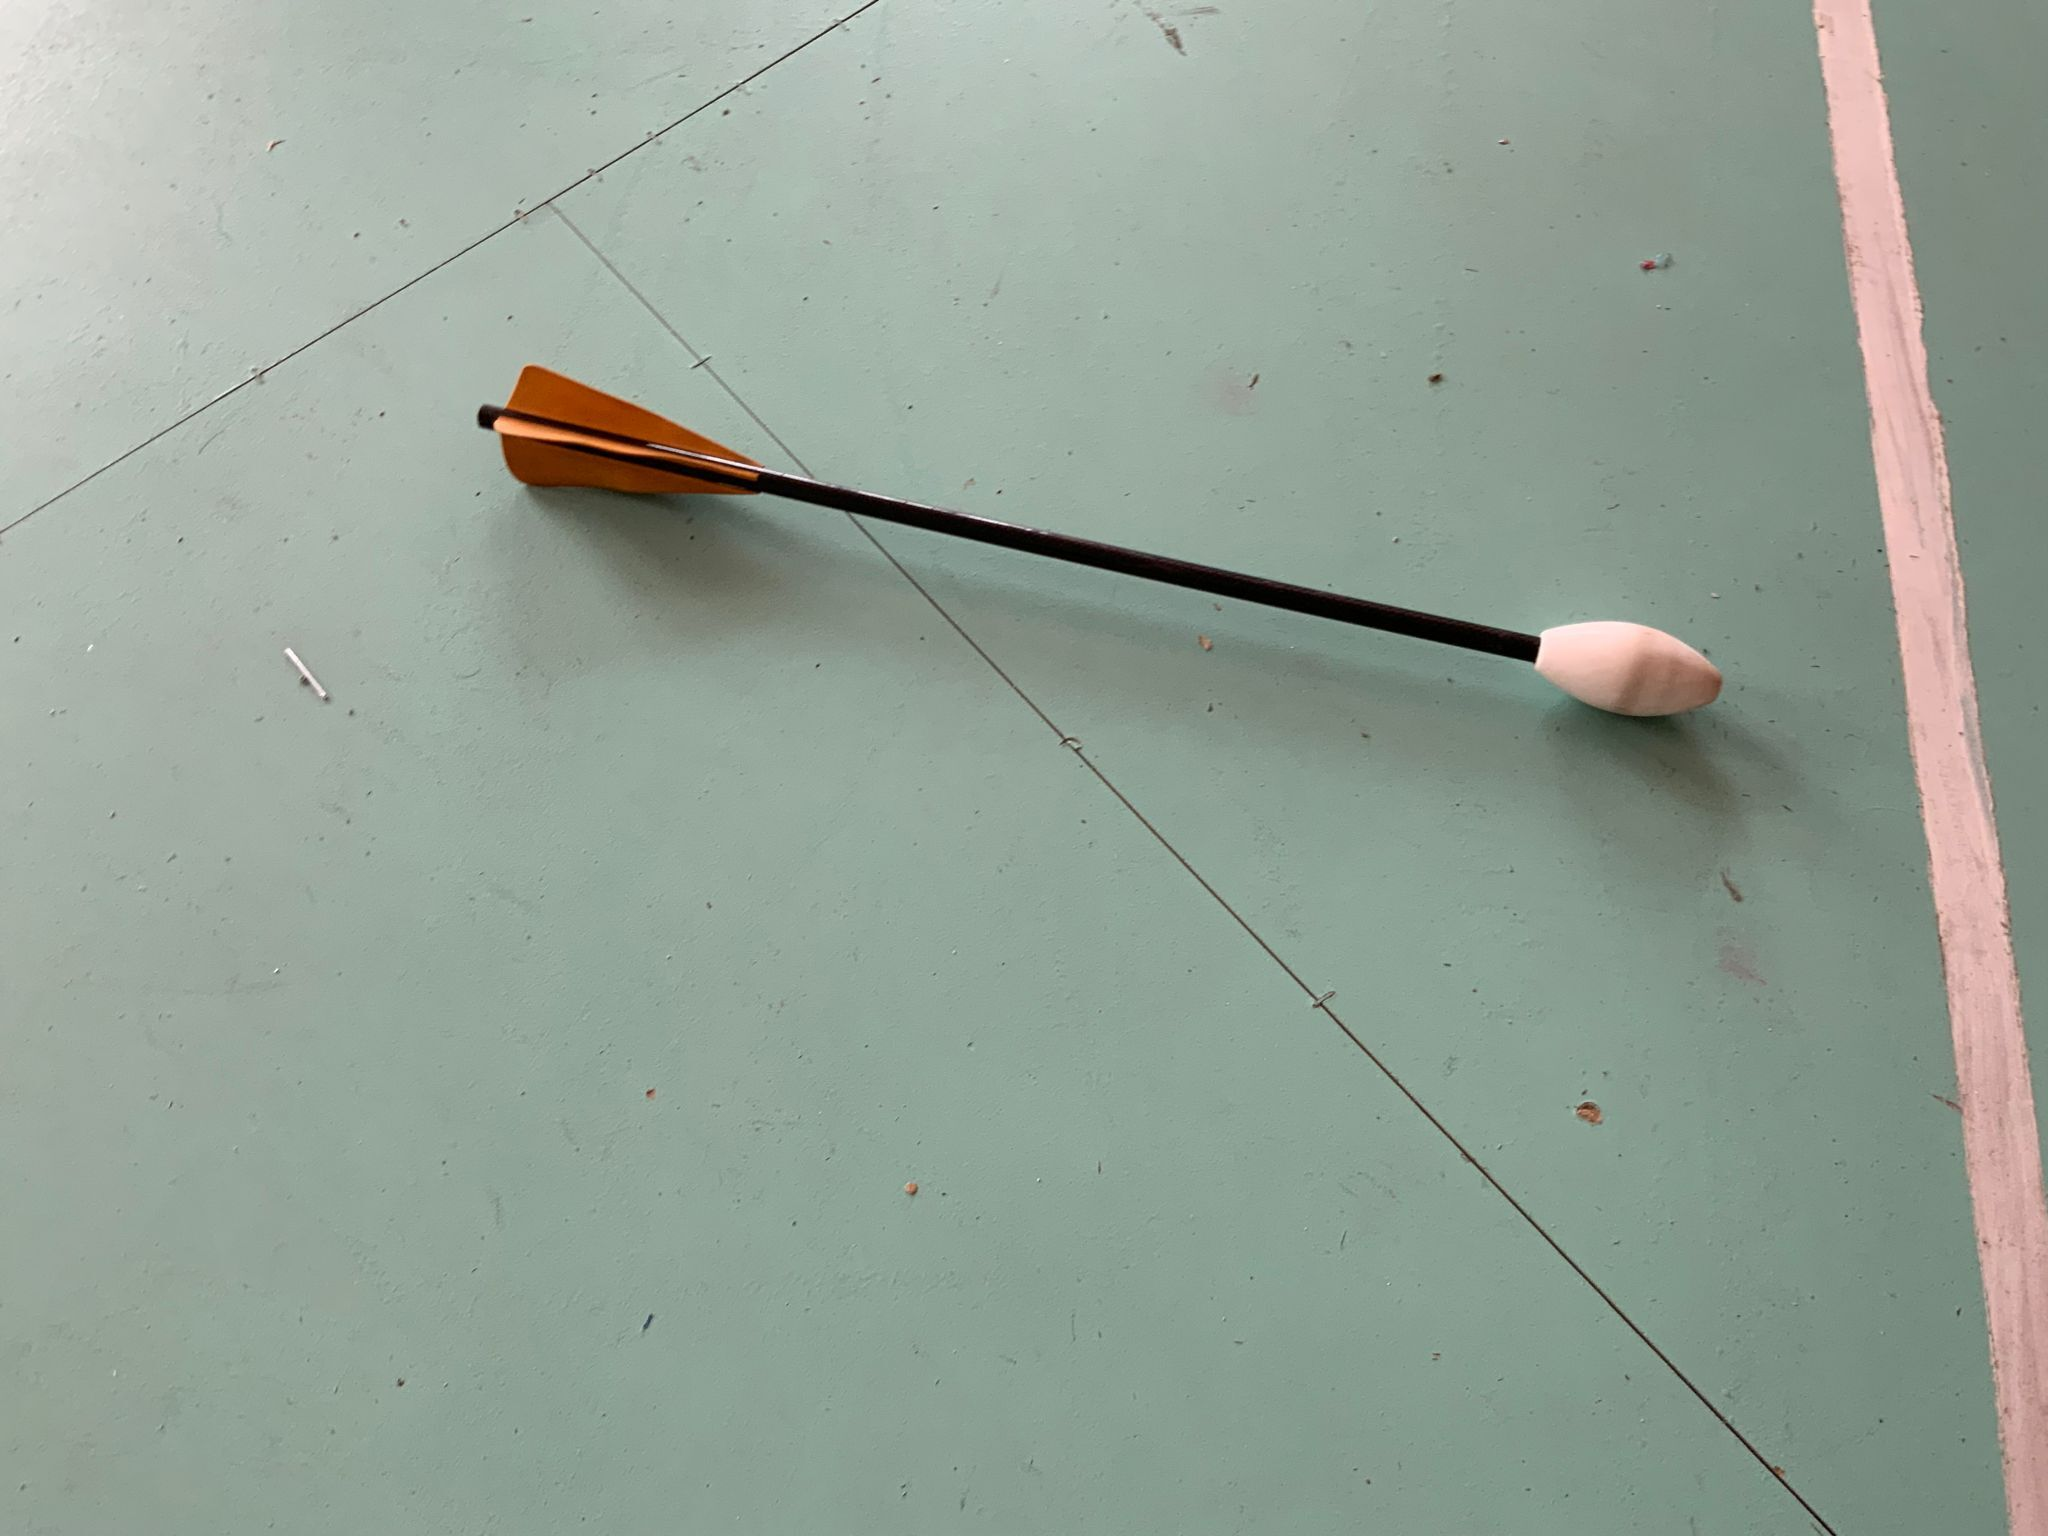arrow: (476, 365, 1725, 721)
arrowFront: (1530, 618, 1722, 721)
